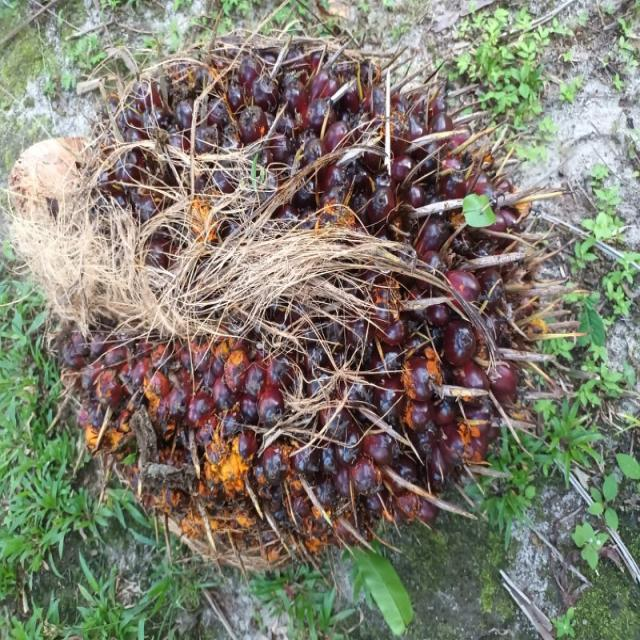fraksi 1: (0, 15, 561, 591)
